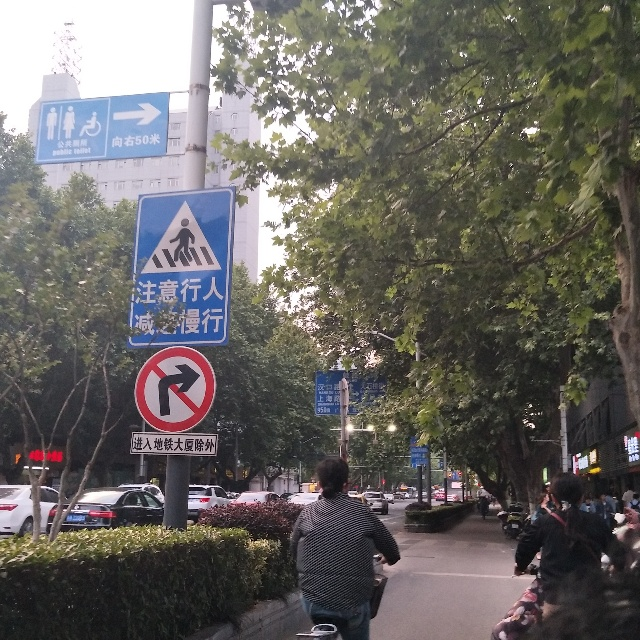crosswalk: (130, 188, 228, 346)
